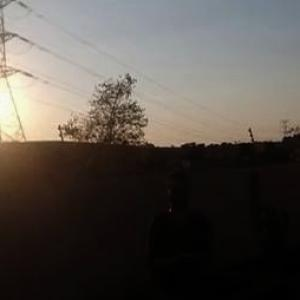follow: (142, 156, 223, 299)
